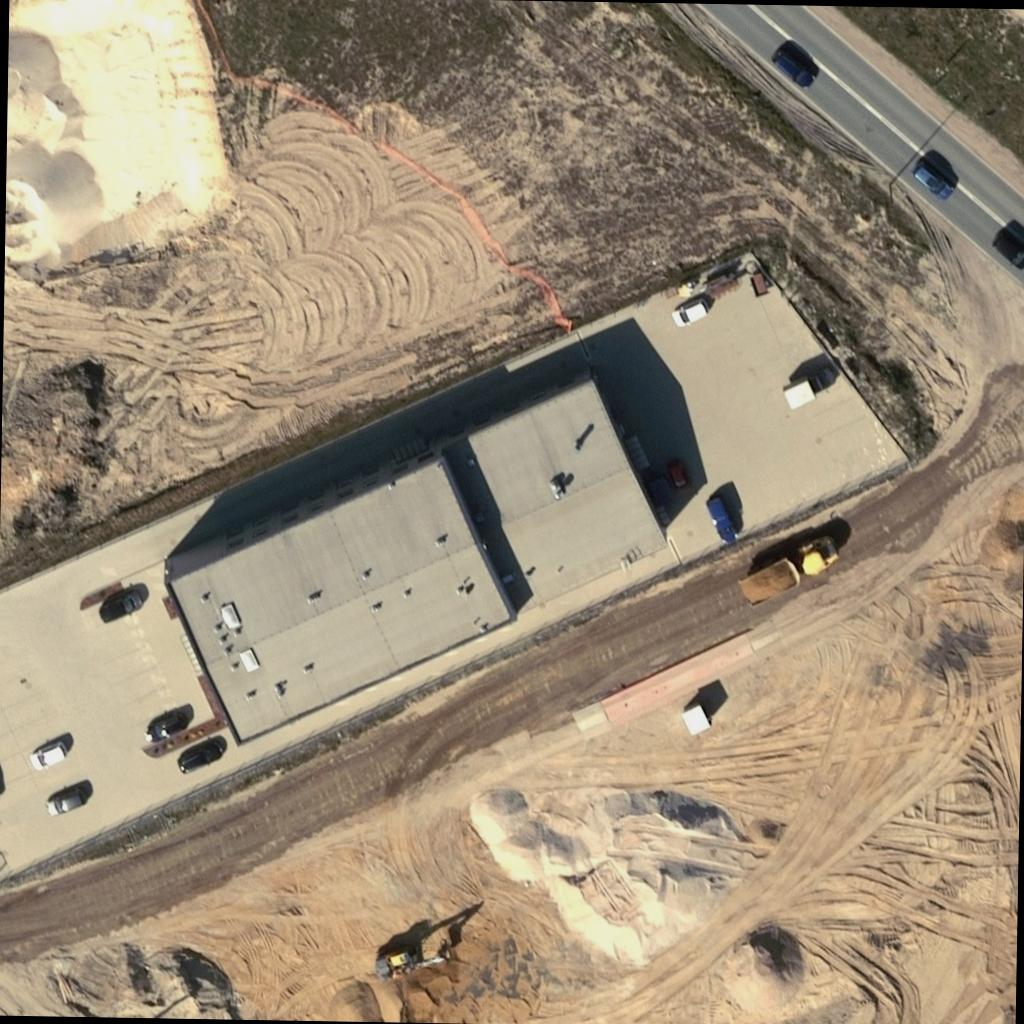ciezarowka: (738, 530, 841, 606)
koparka: (373, 946, 452, 980)
samochod_osobowy: (176, 734, 225, 773), (703, 494, 739, 544), (669, 296, 712, 334), (144, 706, 188, 742), (102, 585, 146, 621), (46, 780, 90, 815), (660, 456, 694, 493), (29, 738, 68, 770)
